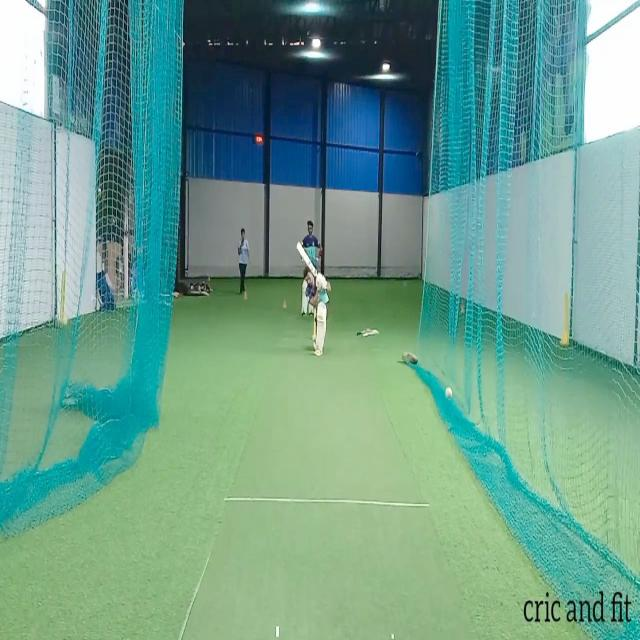batsman: (296, 241, 332, 357)
